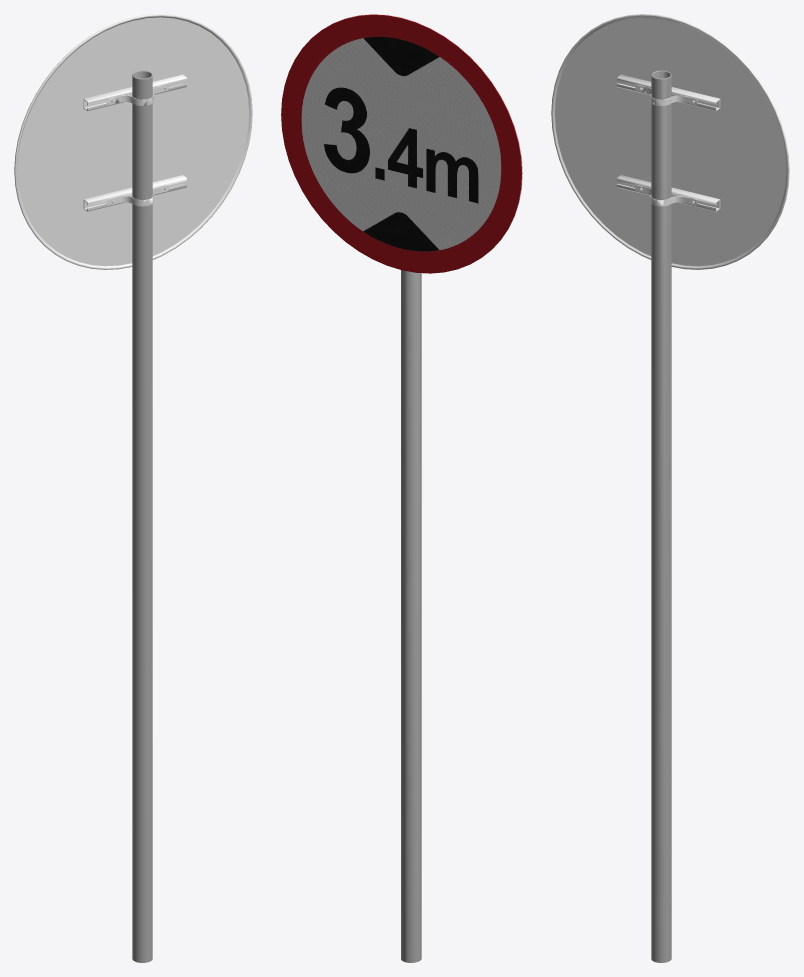
File: o3_segnale_03.glb
3 renders of one model, left to right at view 1: azimuth 30°, elevation 25°; view 2: azimuth 150°, elevation 25°; view 3: azimuth 330°, elevation 25°, orthographic.
Visible parts, largest first — view 1: sb_modello; view 2: sb_modello; view 3: sb_modello.
Part boxes in pixels (left/top/right/bottom): sb_modello: left=14, top=14, right=252, bottom=962; sb_modello: left=281, top=14, right=522, bottom=962; sb_modello: left=551, top=14, right=789, bottom=962.
Bounding box in the file's own units: 0.7672 × 2.88 × 0.0839.
5 materials, 1 textured.
